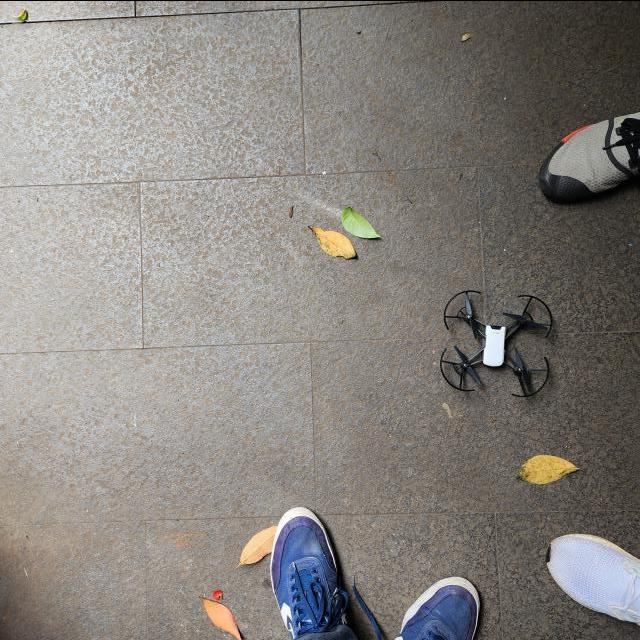drone: (439, 290, 552, 397)
